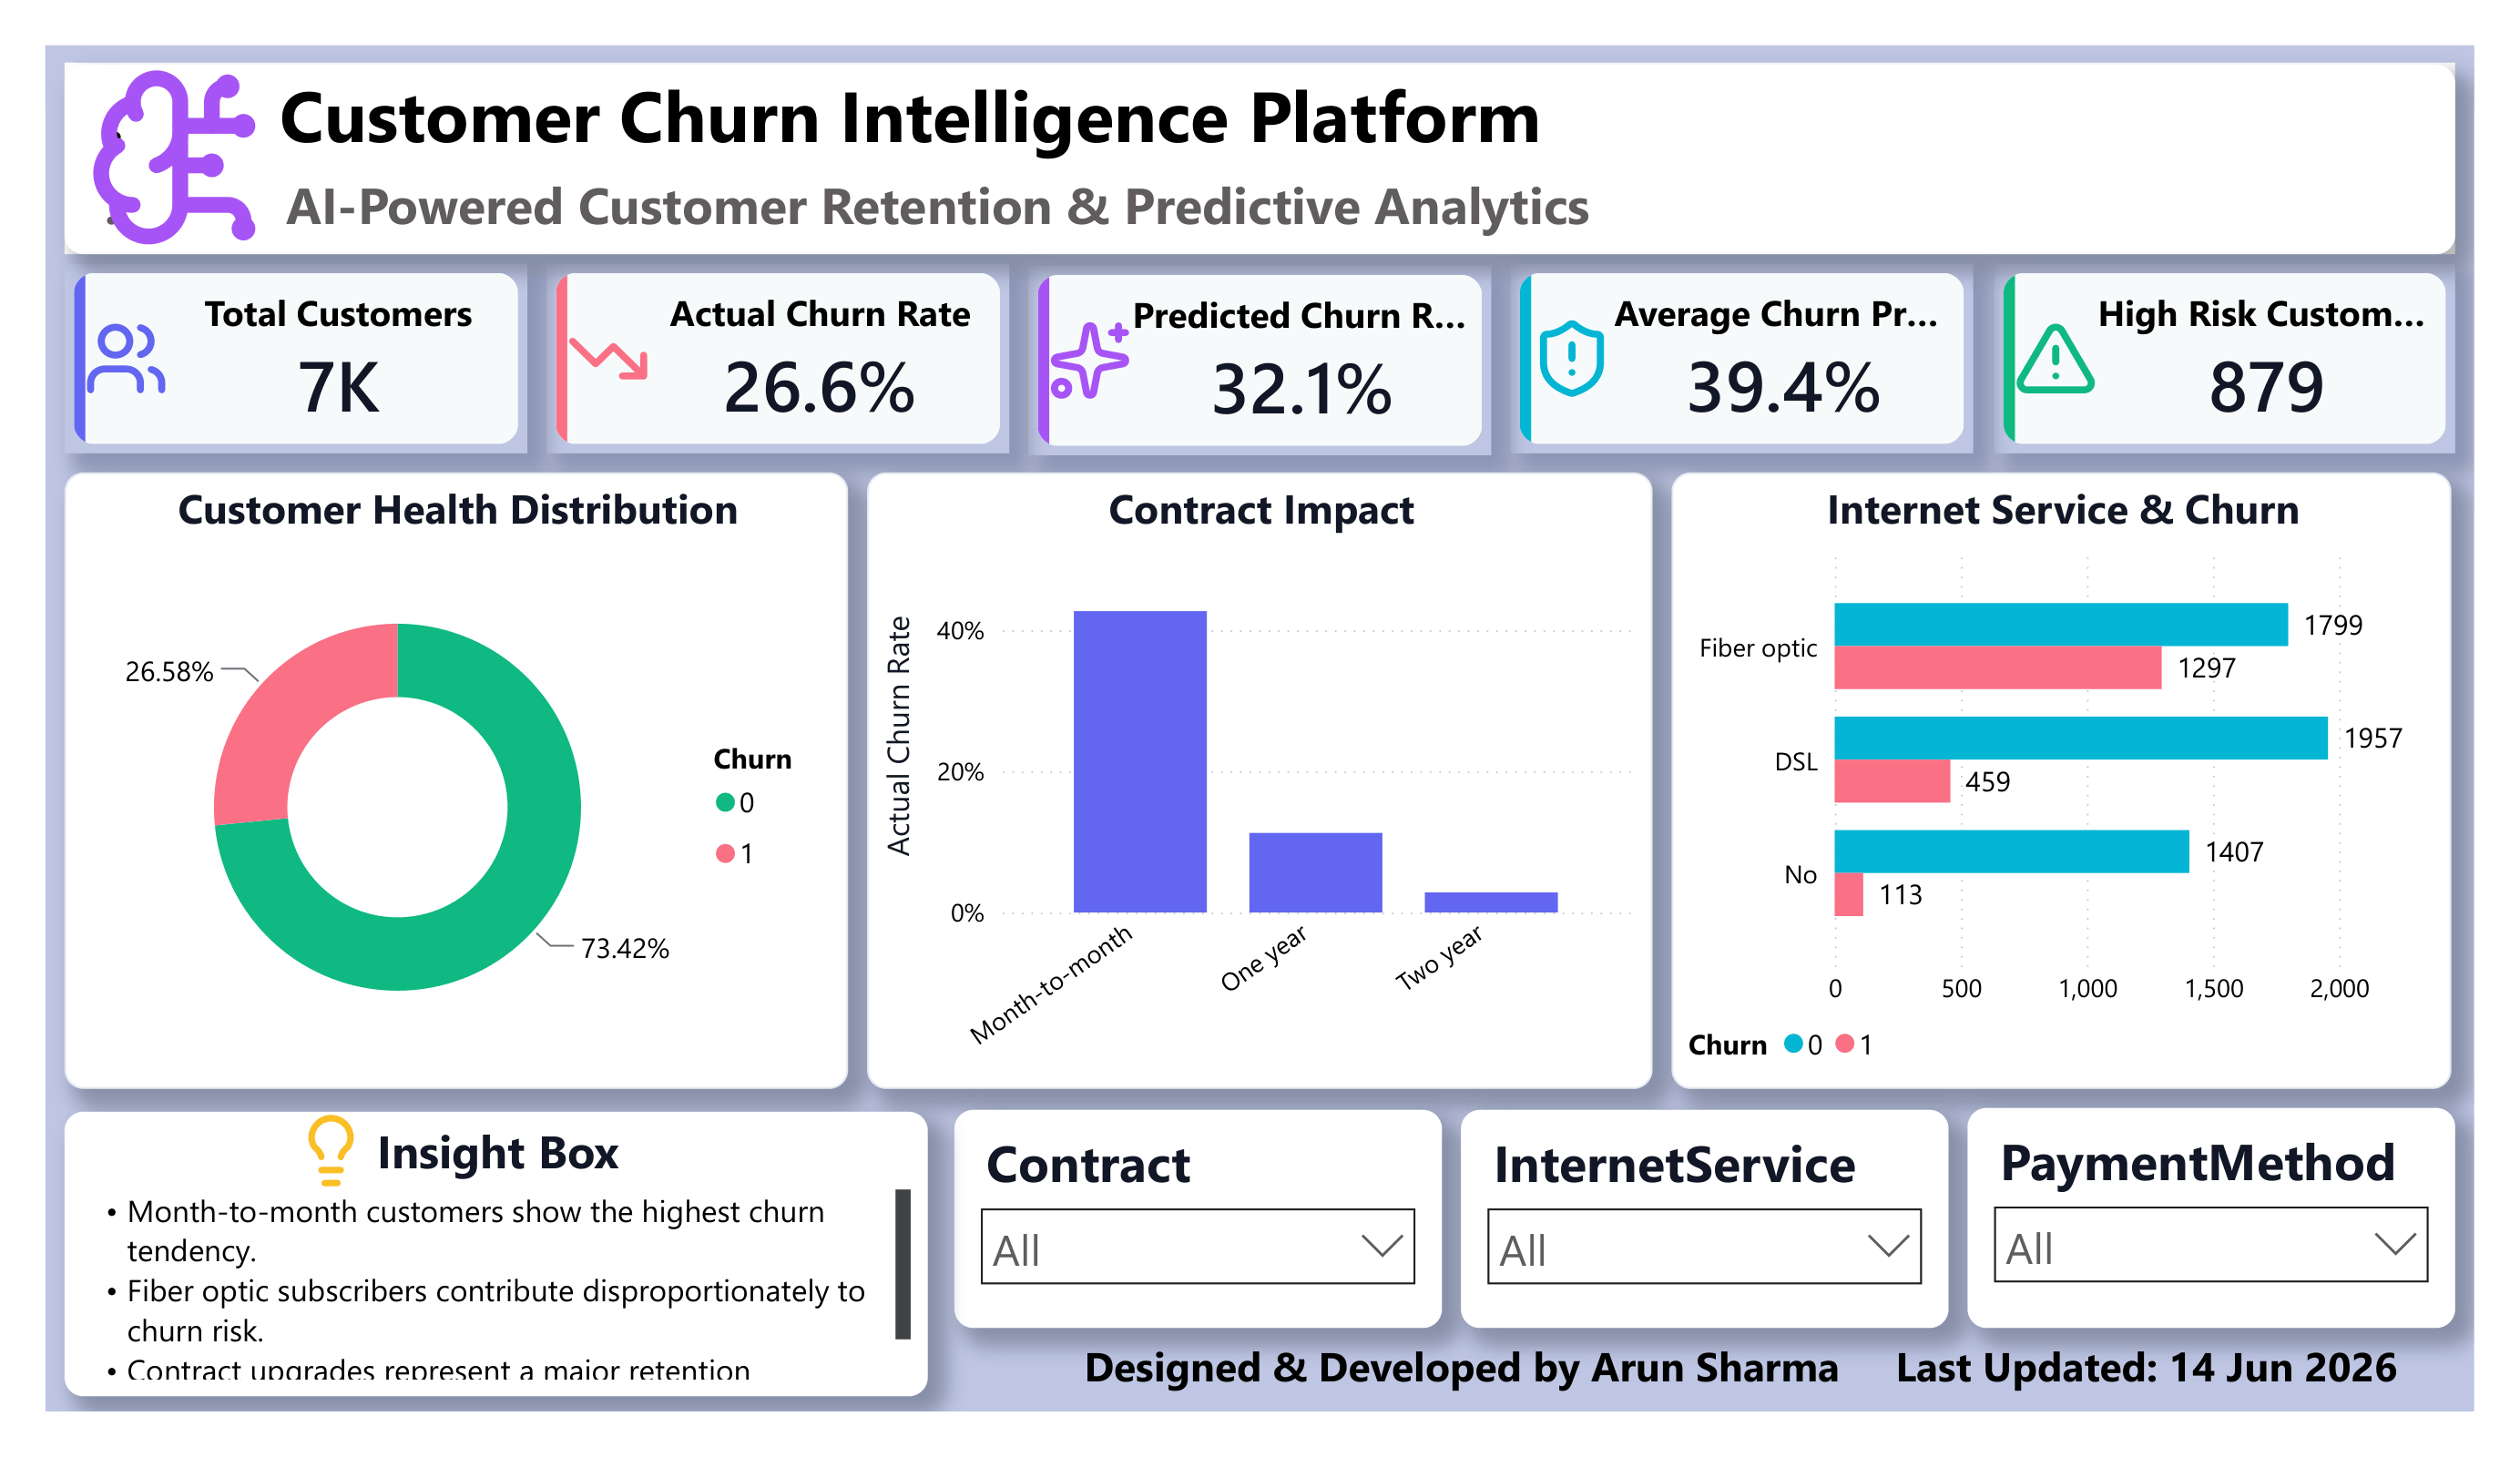

The page's visual inventory and layout, read from the dashboard file:
{"tool":"powerbi","page":{"name":"Customer Health","canvas":[1280,720],"ordinal":0},"visuals":[{"type":"group","id":"g1","title":"Group 1","box":[10,9.4,1260,100.6],"z":0},{"type":"textbox","title":".        Customer Churn Intelligence Platform","box":[10,10,1260,100],"z":0,"group":"g1"},{"type":"image","box":[10.9,9.4,120,100],"z":1000,"group":"g1"},{"type":"cardVisual","fields":{"Data":["Measures_Table.Total Customers"]},"box":[10,115,244,100],"z":1000},{"type":"cardVisual","fields":{"Data":["Measures_Table.Actual Churn Rate"]},"box":[264,115,244,100],"z":2000},{"type":"cardVisual","fields":{"Data":["Measures_Table.Predicted Churn Rate"]},"box":[518,116,244,100],"z":3000},{"type":"cardVisual","fields":{"Data":["Measures_Table.Average Churn Probability"]},"box":[772,115,244,100],"z":4000},{"type":"cardVisual","fields":{"Data":["Measures_Table.High Risk Customers"]},"box":[1026.7,115,243.3,100],"z":5000},{"type":"donutChart","title":"Customer Health Distribution","fields":{"Category":["Telco_Customer_Predictions.Churn"],"Y":["CountNonNull(Telco_Customer_Predictions.customerID)"]},"box":[10,225,413.3,325],"z":6000},{"type":"clusteredColumnChart","title":"Contract Impact","fields":{"Category":["Telco_Customer_Predictions.Contract"],"Y":["Measures_Table.Actual Churn Rate"]},"box":[433.3,225,413.3,325],"z":7000},{"type":"clusteredBarChart","title":"Internet Service & Churn","fields":{"Category":["Telco_Customer_Predictions.InternetService"],"Series":["Telco_Customer_Predictions.Churn"],"Y":["CountNonNull(Telco_Customer_Predictions.customerID)"]},"box":[856.7,225,411.7,325],"z":8000},{"type":"slicer","fields":{"Values":["Telco_Customer_Predictions.Contract"]},"box":[478.6,561.4,257.1,114.3],"z":9000},{"type":"slicer","fields":{"Values":["Telco_Customer_Predictions.InternetService"]},"box":[745.7,561.4,257.1,114.3],"z":10000},{"type":"slicer","fields":{"Values":["Telco_Customer_Predictions.PaymentMethod"]},"box":[1012.9,560,257.1,115.7],"z":11000},{"type":"textbox","title":"Insight Box","box":[10,561.7,455,150],"z":12000},{"type":"image","box":[118.3,561.7,65,41.7],"z":13000},{"type":"textbox","box":[478.6,675.7,801.4,44.3],"z":14000}]}

Visuals, with their boxes on the page's 1280x720 design canvas (x1, y1, x2, y2). These are canvas units, not pixel positions in the 2520x1457 screenshot, which may show the page scaled, cropped or inside an application window:
"Group 1" group: box=[10, 9, 1270, 110]
".        Customer Churn Intelligence Platform" textbox: box=[10, 10, 1270, 110]
image: box=[11, 9, 131, 109]
cardVisual - Measures_Table.Total Customers: box=[10, 115, 254, 215]
cardVisual - Measures_Table.Actual Churn Rate: box=[264, 115, 508, 215]
cardVisual - Measures_Table.Predicted Churn Rate: box=[518, 116, 762, 216]
cardVisual - Measures_Table.Average Churn Probability: box=[772, 115, 1016, 215]
cardVisual - Measures_Table.High Risk Customers: box=[1027, 115, 1270, 215]
"Customer Health Distribution" donutChart: box=[10, 225, 423, 550]
"Contract Impact" clusteredColumnChart: box=[433, 225, 847, 550]
"Internet Service & Churn" clusteredBarChart: box=[857, 225, 1268, 550]
slicer - Telco_Customer_Predictions.Contract: box=[479, 561, 736, 676]
slicer - Telco_Customer_Predictions.InternetService: box=[746, 561, 1003, 676]
slicer - Telco_Customer_Predictions.PaymentMethod: box=[1013, 560, 1270, 676]
"Insight Box" textbox: box=[10, 562, 465, 712]
image: box=[118, 562, 183, 603]
textbox: box=[479, 676, 1280, 720]
